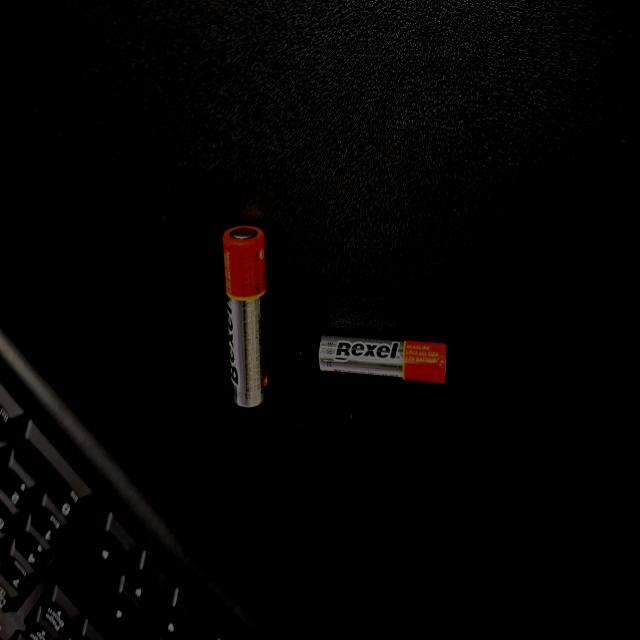AA: (170, 494, 306, 557)
AAA: (252, 258, 288, 428)
